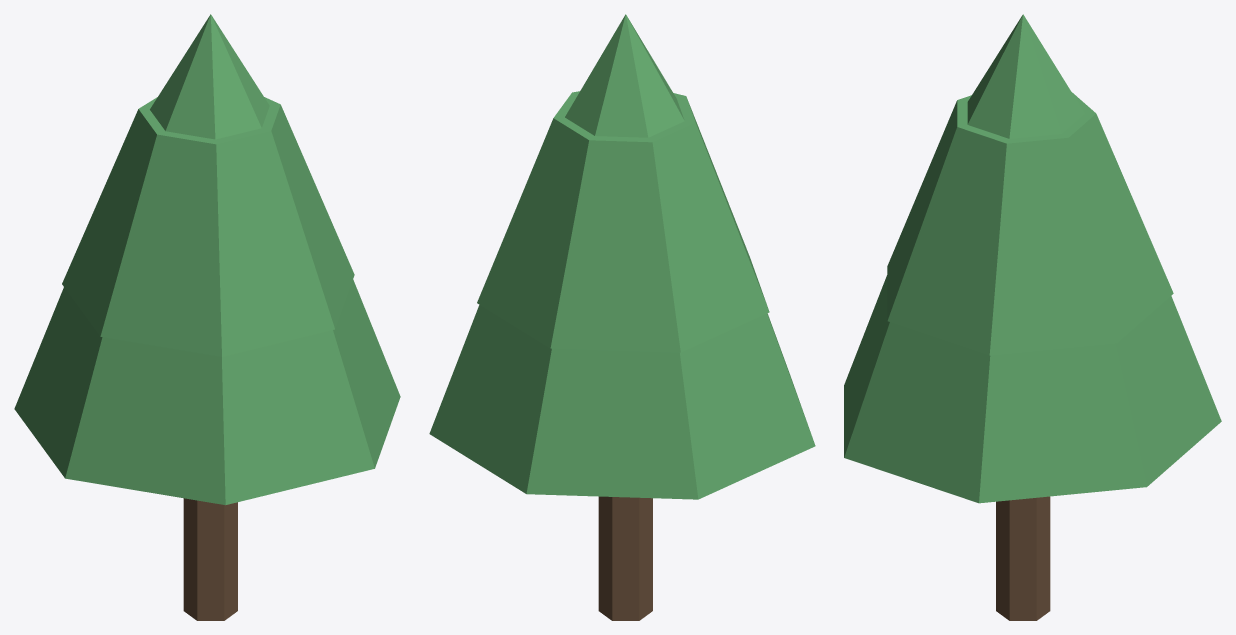
File: arbol.glb
3 renders of one model, left to right at view 1: azimuth 30°, elevation 25°; view 2: azimuth 150°, elevation 25°; view 3: azimuth 270°, elevation 25°, orthographic.
Parts seen in each view (by area): view 1: arbol; view 2: arbol; view 3: arbol.
Boxes of the visible parts, x1,y1,x2,y2 form: arbol: (14,14,400,620); arbol: (429,14,815,620); arbol: (844,14,1221,620).
Size of the model in its own units: 1.85 by 3.15 by 1.81.
